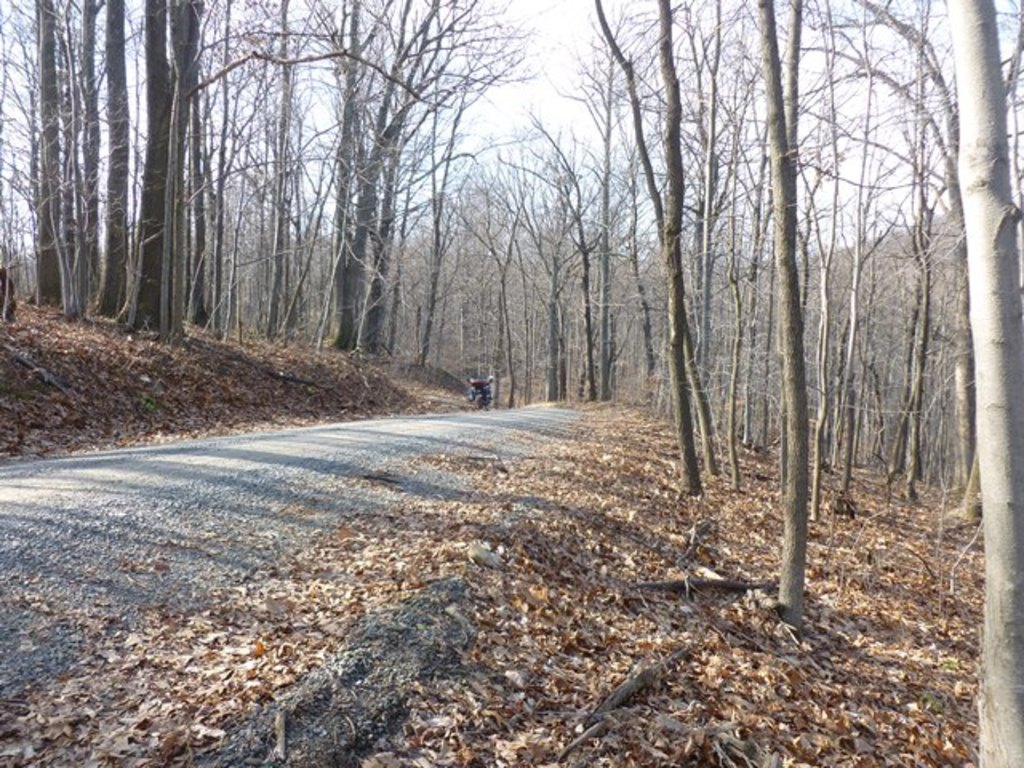Tree: (0, 0, 1022, 766)
